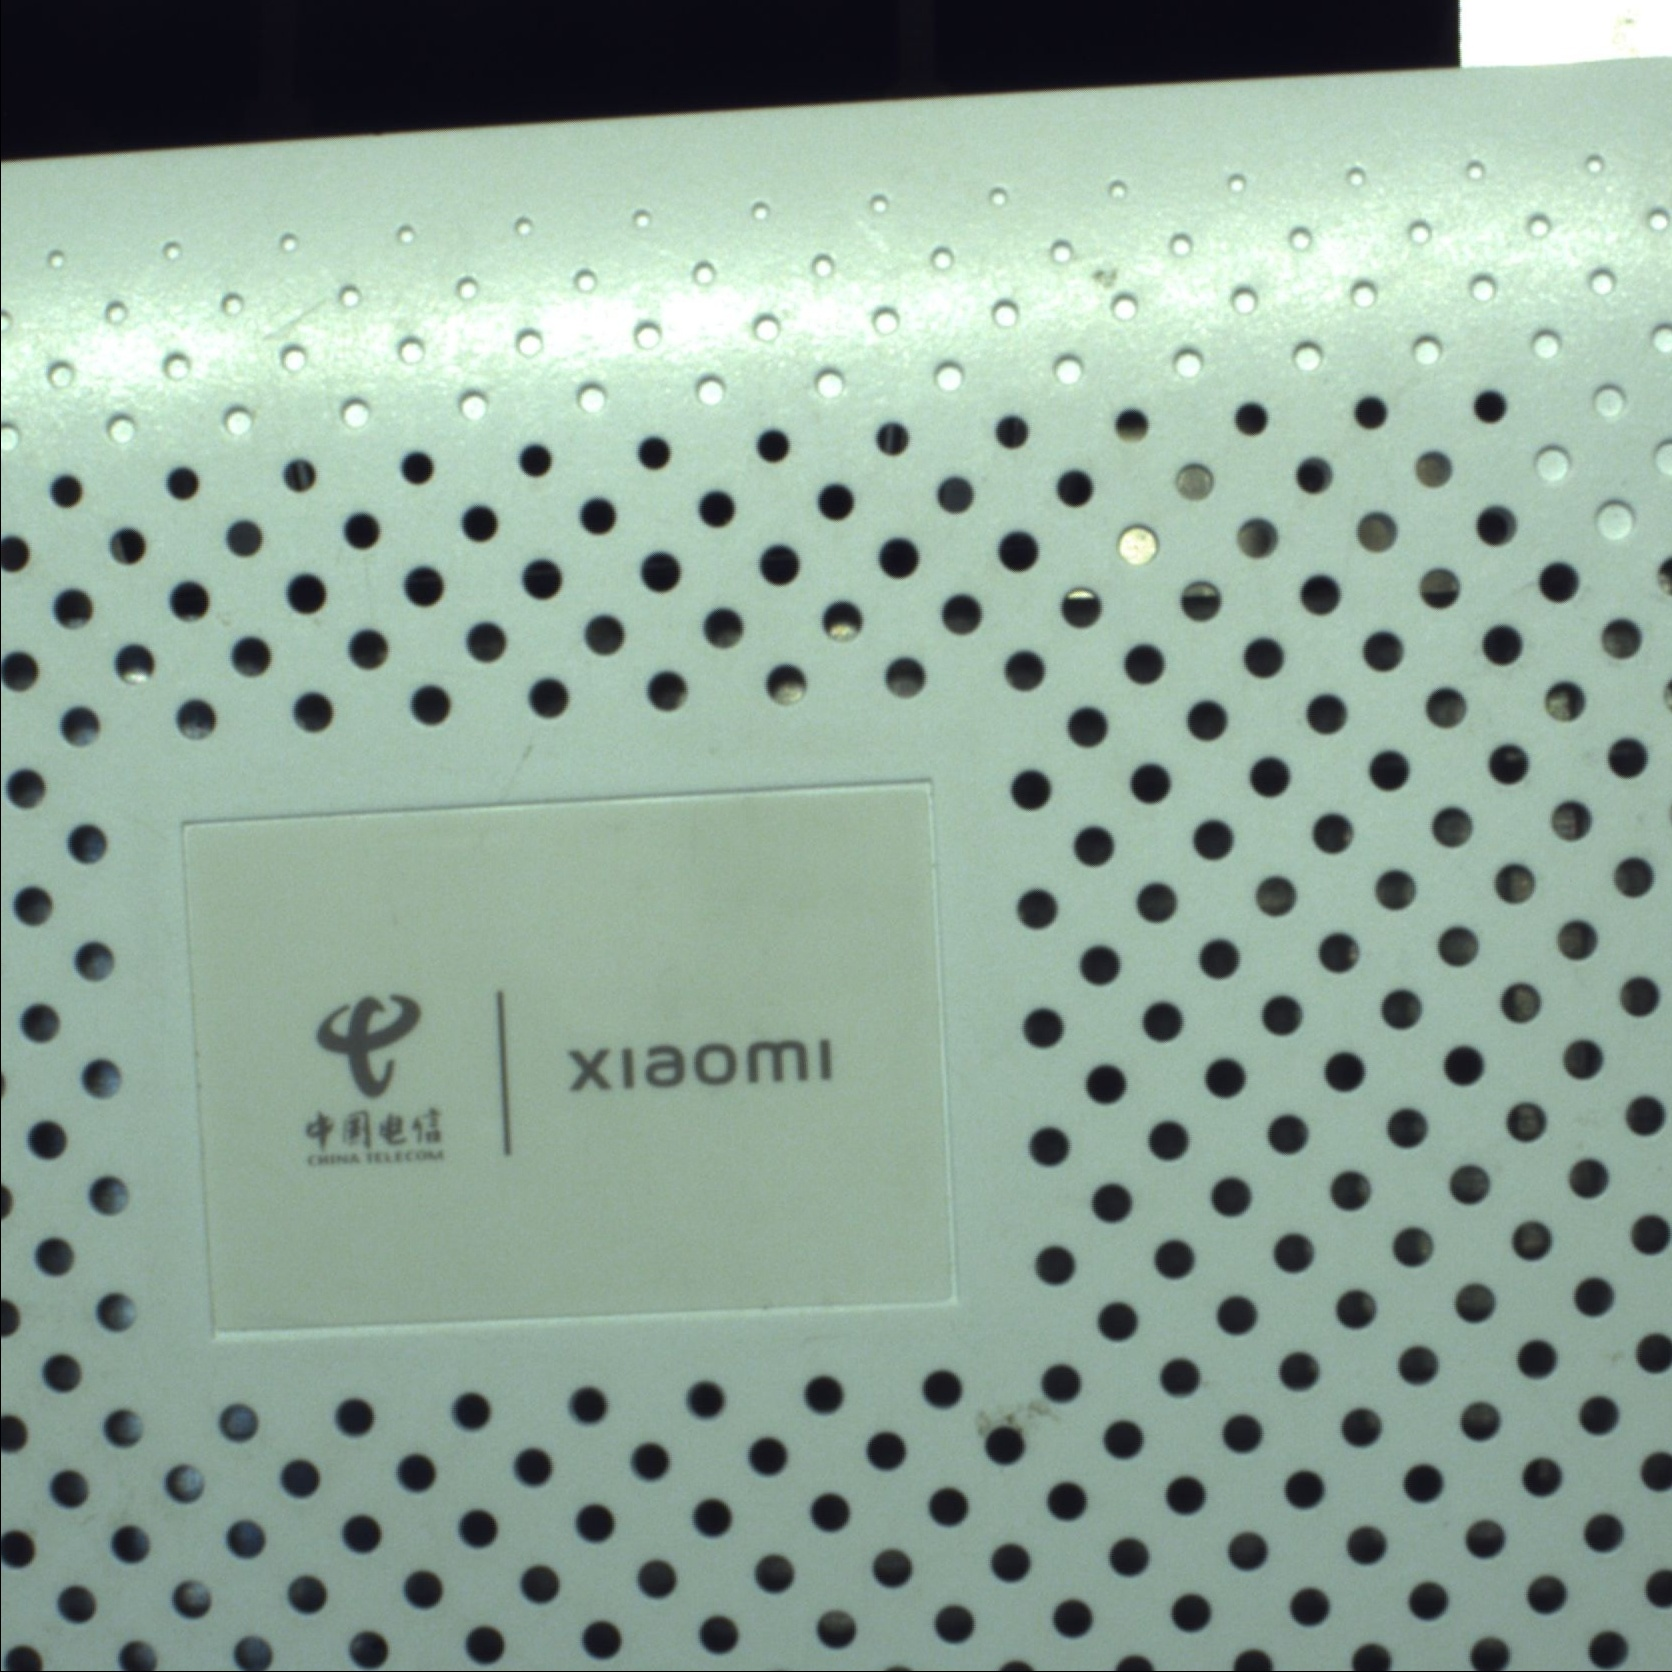MAA_Telecom: (271, 978, 841, 1161)
